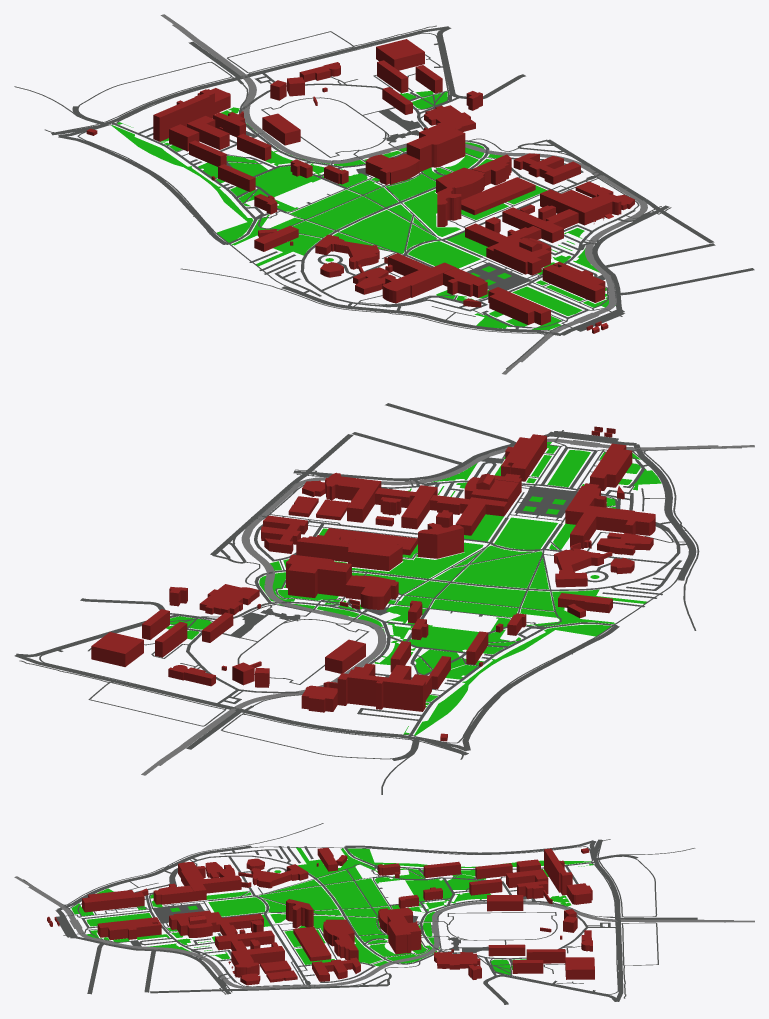
File: univExtrude.glb
The picture shows the model from 3 angles, top to bottom: view 1: azimuth 30°, elevation 25°; view 2: azimuth 150°, elevation 25°; view 3: azimuth 270°, elevation 25°; orthographic projection. The views are drawn at different scales.
Parts seen in each view (by area): view 1: Tramway de Caen.001, Bâtiment D, element.303, SUAPS, element.378, Bâtiment L, Vissol, Bâtiment A, Bâtiment B, Bâtiment M, element.419, Bâtiment G (+34 smaller); view 2: Vissol, Tramway de Caen.001, Bâtiment D, SUAPS, element.303, element.378, Bâtiment L, Bâtiment N, element.419, Bâtiment H, Restaurant Universitaire A, element.368 (+31 smaller); view 3: Tramway de Caen.001, element.303, Bâtiment D, Bâtiment A, SUAPS, Bâtiment L, Bâtiment B, element.378, element.304, Bâtiment F.001, Bâtiment M, element.368 (+43 smaller).
Part boxes in pixels (box(x1,y1,x2,y2)): Tramway de Caen.001: box(172, 24, 645, 374); Bâtiment D: box(382, 253, 455, 303); element.303: box(231, 180, 381, 266); SUAPS: box(406, 124, 465, 171); element.378: box(340, 210, 410, 253); Bâtiment L: box(540, 189, 621, 225); Vissol: box(153, 89, 214, 141); Bâtiment A: box(542, 261, 605, 302); Bâtiment B: box(488, 287, 550, 325); Bâtiment M: box(502, 207, 578, 242); element.419: box(111, 125, 253, 242); Bâtiment G: box(461, 177, 535, 215); Vissol: box(337, 673, 425, 711); Tramway de Caen.001: box(159, 439, 754, 765); Bâtiment D: box(565, 503, 655, 548); SUAPS: box(286, 554, 351, 597); element.303: box(397, 589, 646, 626); element.378: box(453, 551, 542, 588); Bâtiment L: box(325, 472, 381, 522); Bâtiment N: box(430, 495, 507, 535); element.419: box(414, 624, 611, 735); Bâtiment H: box(348, 539, 402, 570); Restaurant Universitaire A: box(345, 575, 398, 609); element.368: box(494, 517, 557, 549); Tramway de Caen.001: box(14, 876, 734, 988); element.303: box(296, 847, 390, 915); Bâtiment D: box(178, 862, 241, 901); Bâtiment A: box(97, 917, 161, 940); SUAPS: box(387, 914, 421, 954); Bâtiment L: box(231, 946, 284, 977); Bâtiment B: box(82, 890, 144, 912); element.378: box(259, 886, 337, 910); element.304: box(317, 870, 388, 941); Bâtiment F.001: box(251, 864, 308, 888); Bâtiment M: box(215, 930, 274, 951); element.368: box(208, 897, 265, 916).
Size of the model in its own units: 648 by 33.02 by 1116.
